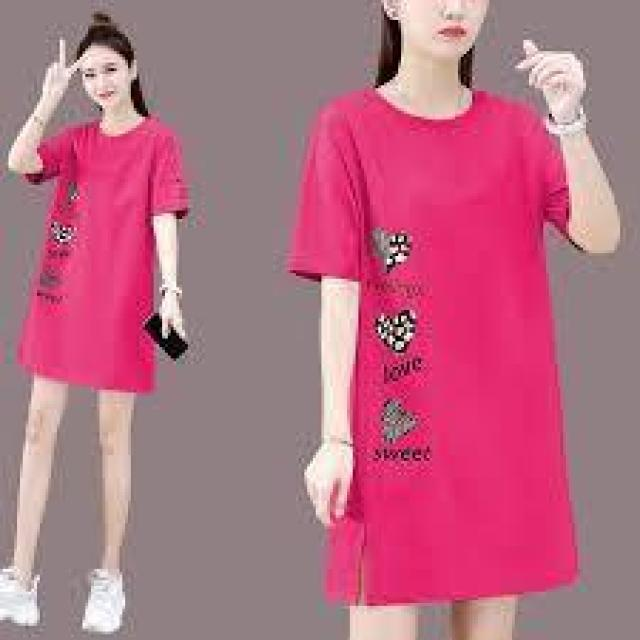dress: (284, 76, 580, 604), (16, 108, 189, 398)
